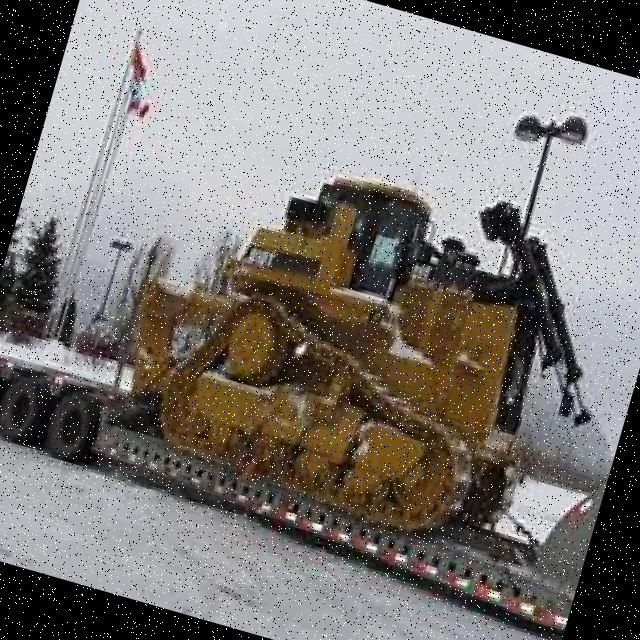Bulldozer: (76, 72, 640, 567)
